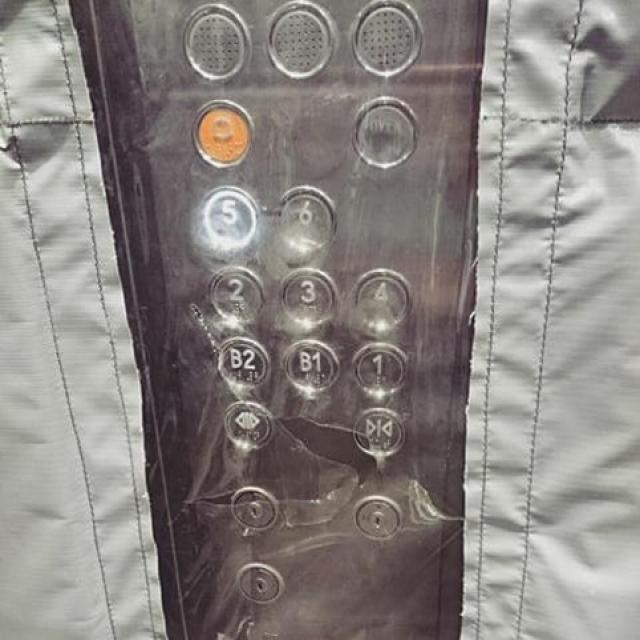1: (351, 337, 409, 395)
2: (206, 261, 264, 323)
3: (275, 264, 338, 325)
4: (349, 266, 412, 330)
5: (196, 181, 258, 248)
6: (271, 185, 336, 252)
B1: (279, 336, 340, 393)
B2: (215, 336, 271, 389)
alarm: (188, 96, 252, 168)
blur: (348, 92, 417, 169)
close: (351, 405, 405, 459)
keyhole: (228, 484, 280, 533), (349, 492, 401, 541), (232, 561, 284, 604)
open: (219, 399, 275, 449)
speaker: (262, 0, 336, 80), (349, 0, 422, 79), (178, 1, 248, 83)
